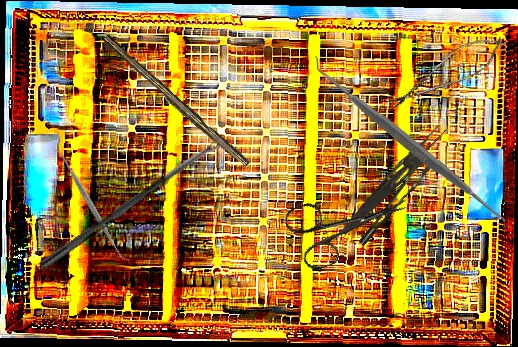Dressing Forceps: (339, 120, 447, 241)
Iris Scissors: (281, 171, 419, 275)
Micro Scissor: (383, 26, 512, 120)
Scalpel Handle: (98, 34, 253, 170)
Spatula Surgical: (315, 52, 506, 235), (51, 144, 132, 267)
Surgical Spoon: (39, 136, 225, 272)
Tissue Forceps: (348, 154, 442, 247)
